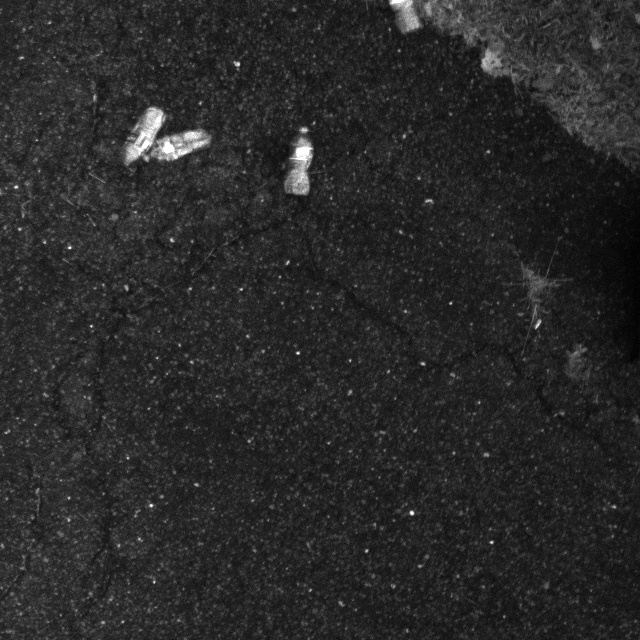bottle: (272, 121, 323, 200), (141, 127, 215, 173), (115, 101, 166, 166)
